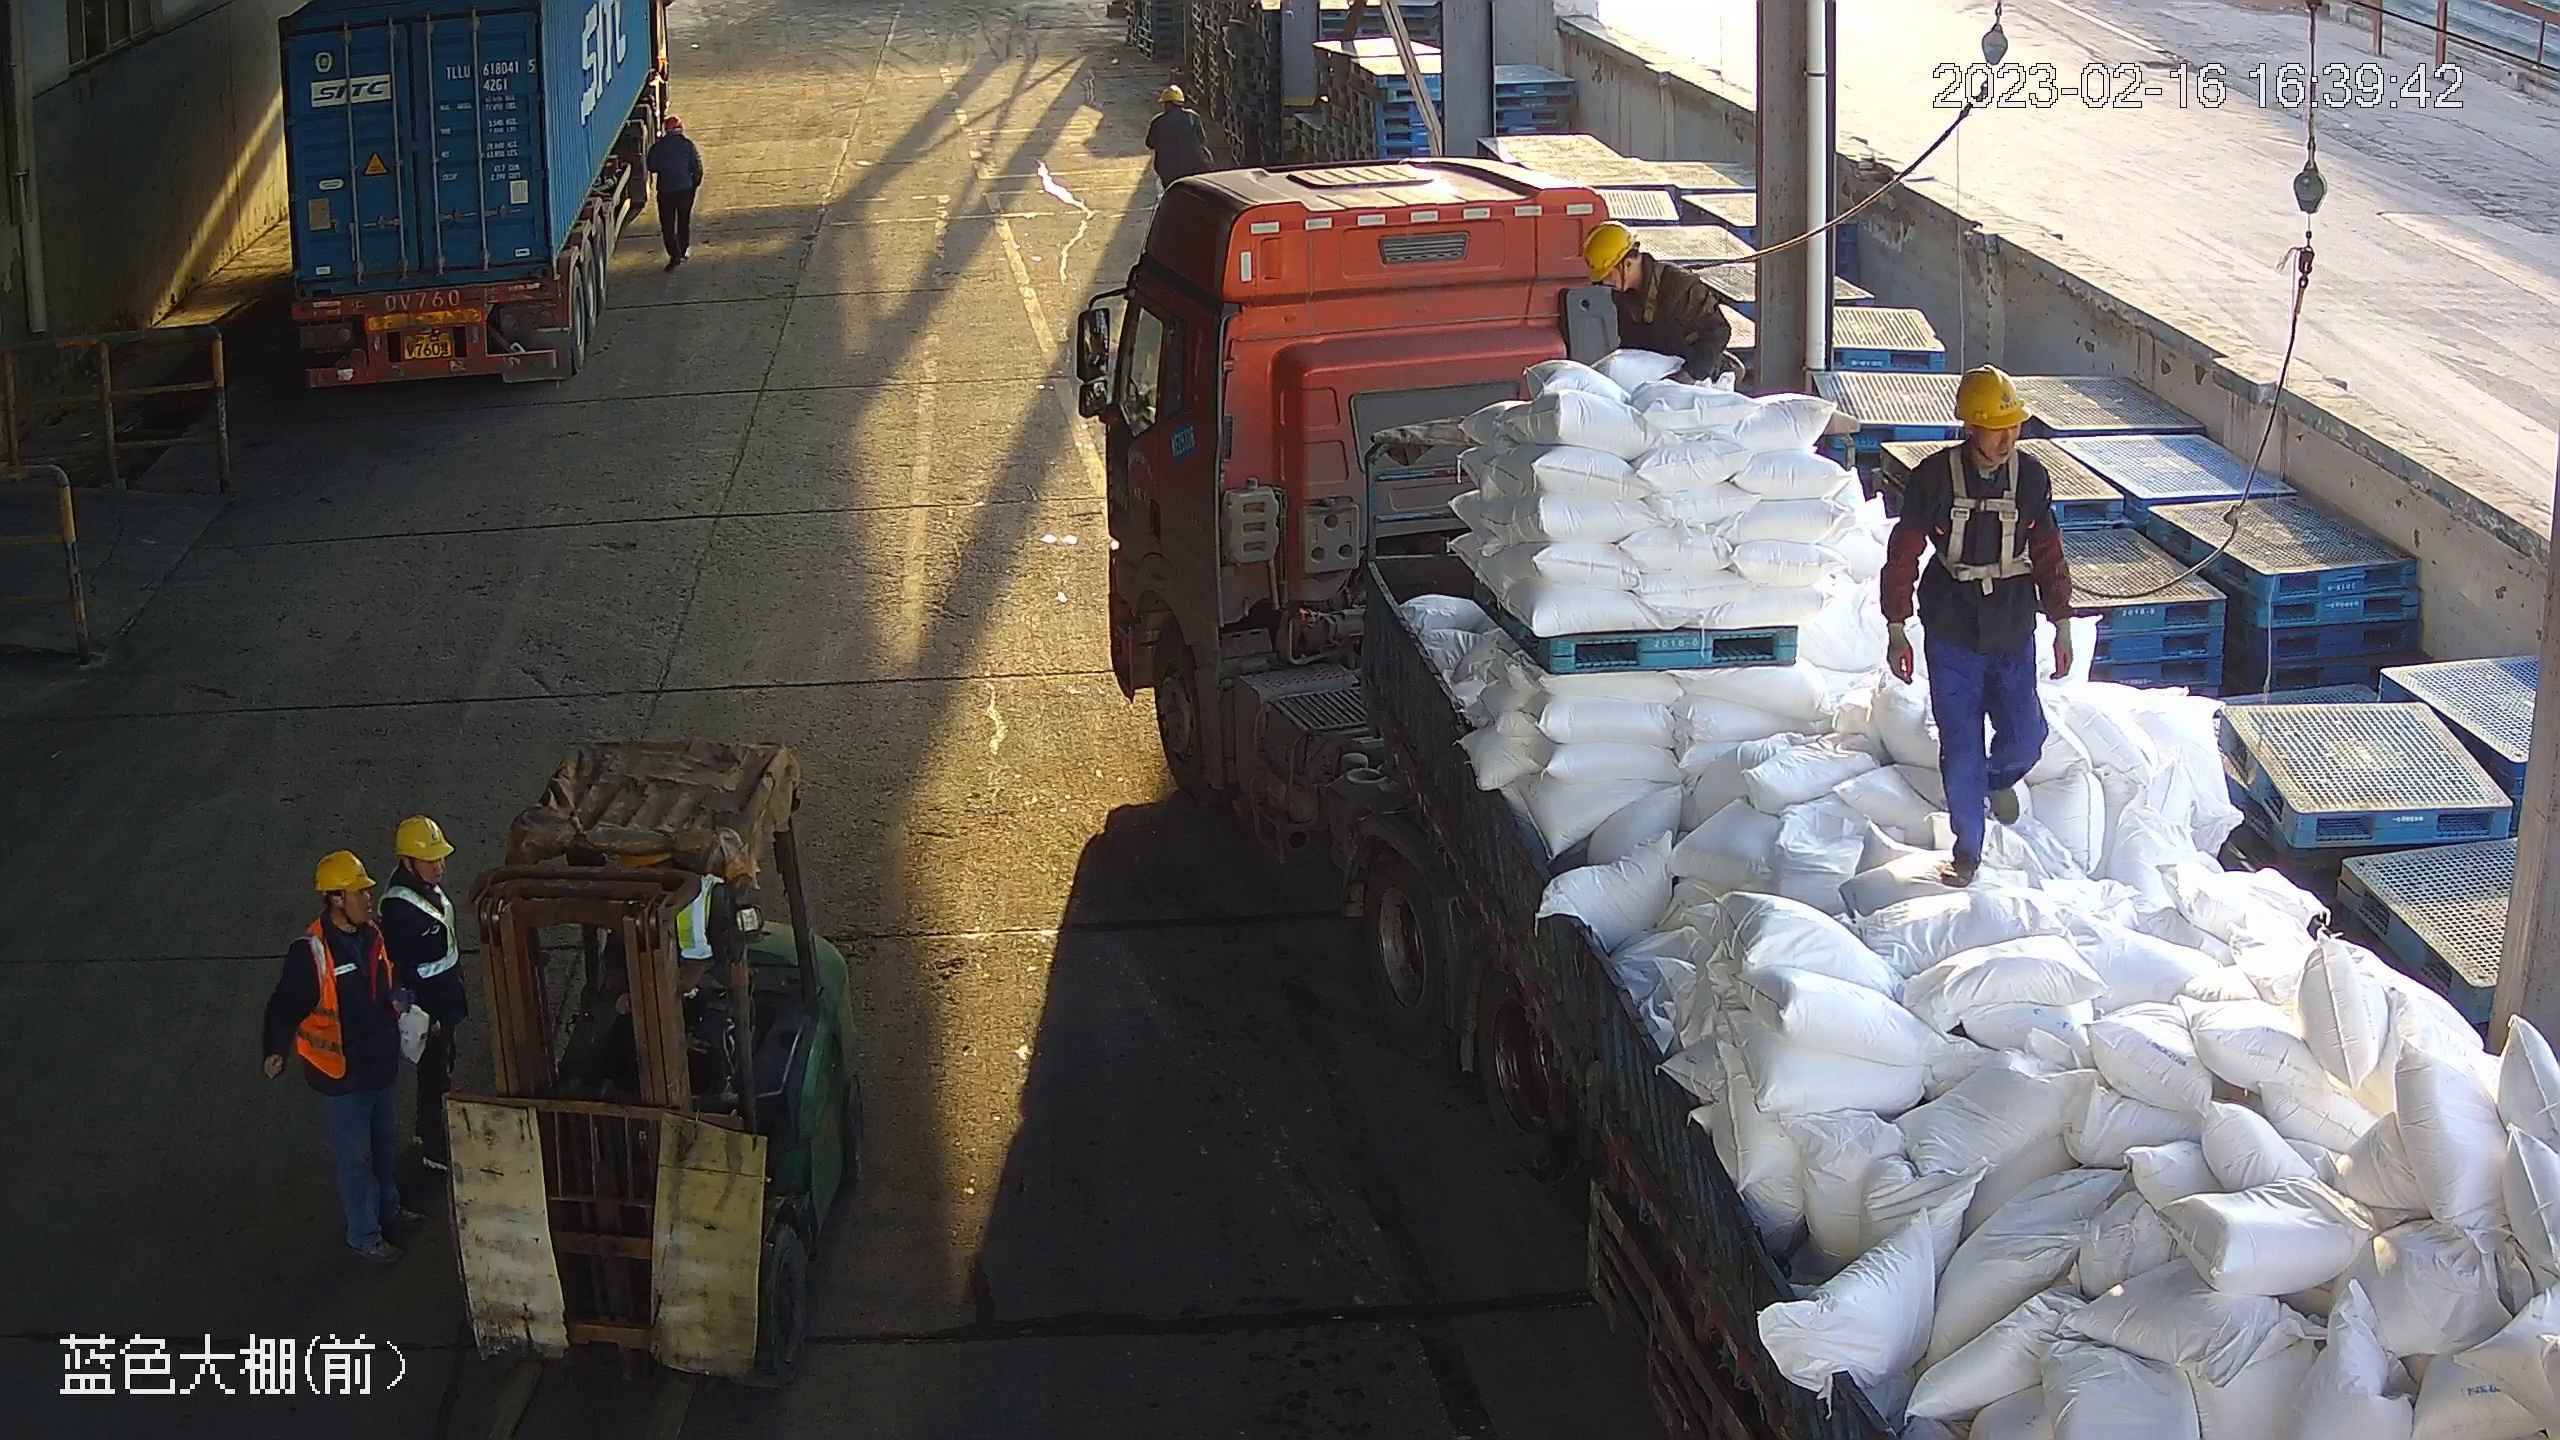belt: (1934, 439, 2040, 586), (1603, 261, 1711, 320)
head: (1900, 359, 2056, 505), (286, 848, 388, 961), (1577, 219, 1711, 305), (386, 811, 455, 929), (652, 110, 697, 163), (1151, 83, 1196, 136)
helmet: (1951, 359, 2032, 431), (1581, 219, 1640, 283), (392, 811, 456, 862), (314, 848, 377, 891), (1158, 82, 1185, 104), (660, 113, 684, 131)
people: (1879, 359, 2080, 889), (254, 848, 426, 1261), (376, 809, 483, 1181), (643, 111, 705, 269), (1150, 84, 1208, 196)
truck: (1105, 154, 2560, 1440), (257, 1, 686, 395)
